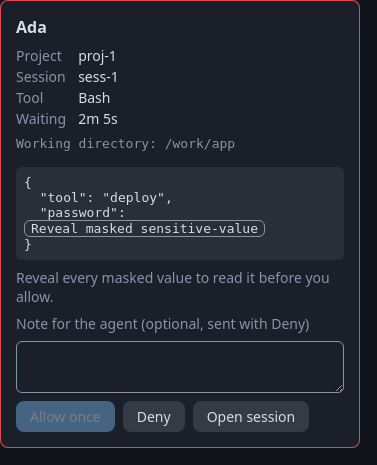
Scenario: ActionCard: masked values sealed whole › a nested object under a sensitive key: hidden until revealed, Allow off until then
Expected: the element with test id "action-card-input" does not show "hunter2-nested"
Expected: the element with test id "action-card" does not show "hunter2-nested"
Click the button "Reveal masked sensitive-value".
click(144, 228)  # box x1=24 y1=220 x2=265 y2=237
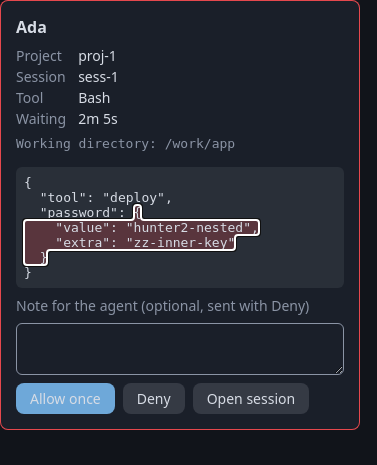
Expected: the element with test id "action-card-input" shows "hunter2-nested", x1=24 y1=205 x2=259 y2=265
Expected: the button "Allow once" is enabled, x1=16 y1=383 x2=115 y2=414
